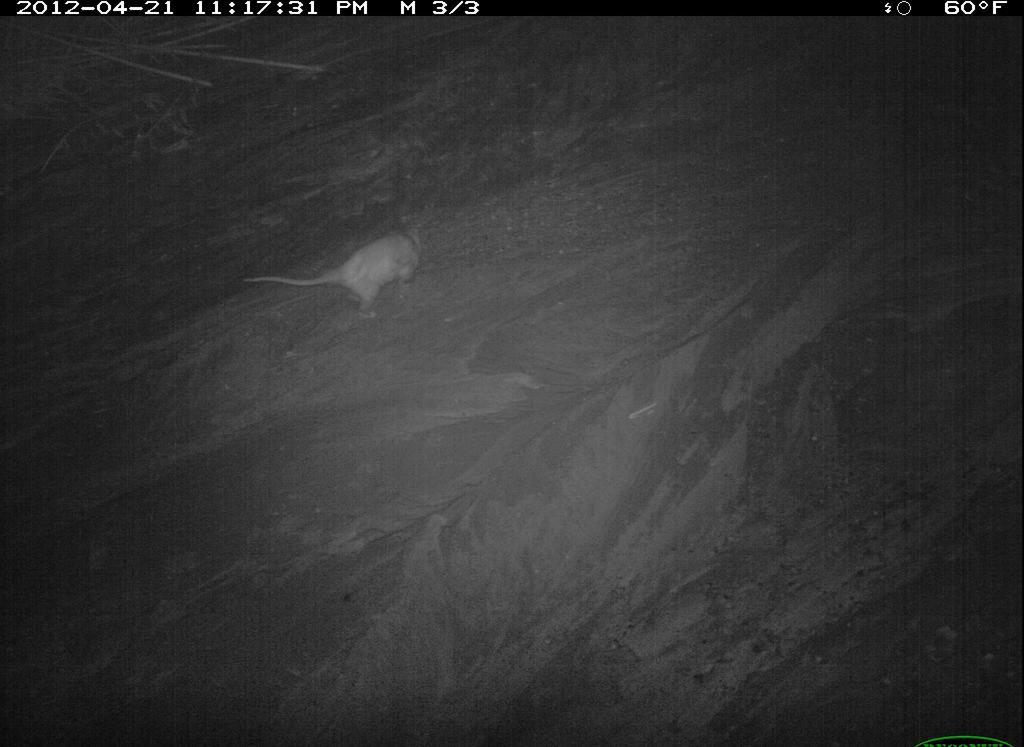opossum: (476, 452, 852, 646)
